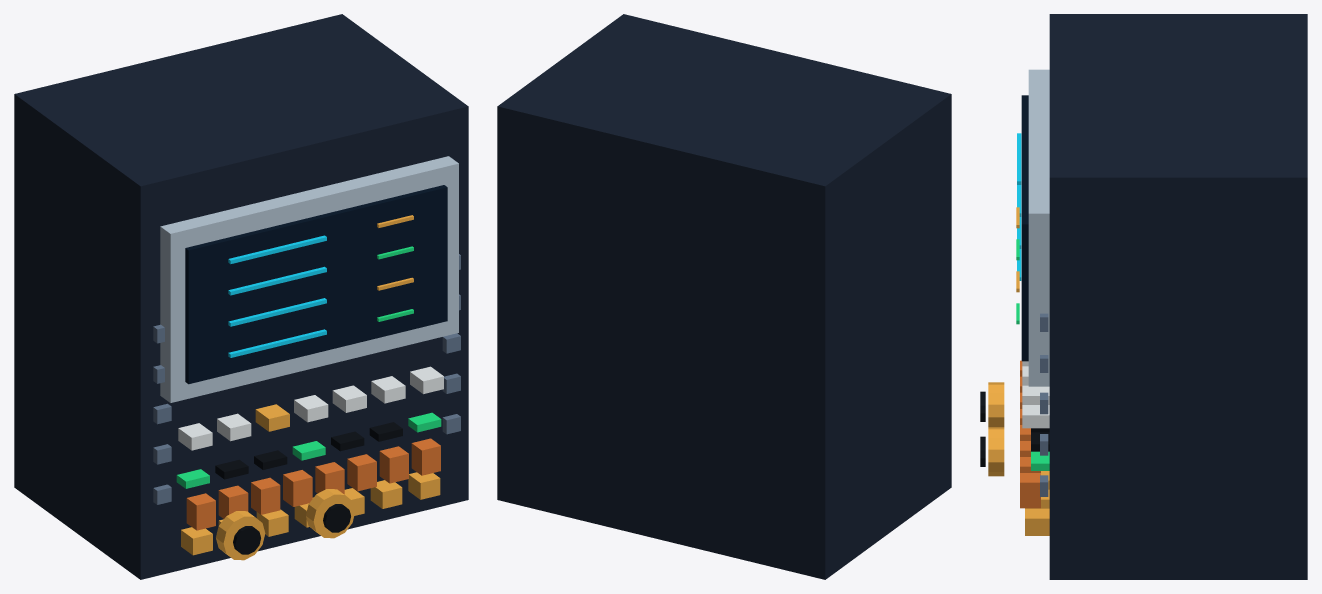
The model's file is 82_L90_QuadEngineThrustAllocationComputer.fbx.
3 views of the same model, side by side, from view 1: azimuth 30°, elevation 25°; view 2: azimuth 150°, elevation 25°; view 3: azimuth 270°, elevation 25° (orthographic). The views are drawn at different scales.
Visible parts, largest first — view 1: L90_QuadEngineThrustAllocationComputer, L90_QuadEngineThrustAllocationComputer_Part_0012, L90_QuadEngineThrustAllocationComputer_Part_0010, L90_QuadEngineThrustAllocationComputer_Part_0011, L90_QuadEngineThrustAllocationComputer_Part_0013; view 2: L90_QuadEngineThrustAllocationComputer; view 3: L90_QuadEngineThrustAllocationComputer, L90_QuadEngineThrustAllocationComputer_Part_0012, L90_QuadEngineThrustAllocationComputer_Part_0010.
Boxes of the visible parts, x1,y1,x2,y2 form: L90_QuadEngineThrustAllocationComputer: (14,14,468,579); L90_QuadEngineThrustAllocationComputer_Part_0012: (306,489,355,538); L90_QuadEngineThrustAllocationComputer_Part_0010: (216,511,265,560); L90_QuadEngineThrustAllocationComputer_Part_0011: (233,526,260,554); L90_QuadEngineThrustAllocationComputer_Part_0013: (323,504,350,532); L90_QuadEngineThrustAllocationComputer: (497,14,951,579); L90_QuadEngineThrustAllocationComputer: (1016,14,1307,579); L90_QuadEngineThrustAllocationComputer_Part_0012: (988,427,1004,476); L90_QuadEngineThrustAllocationComputer_Part_0010: (988,382,1004,427).
Size of the model in its own units: 102 by 117 by 86.2.
